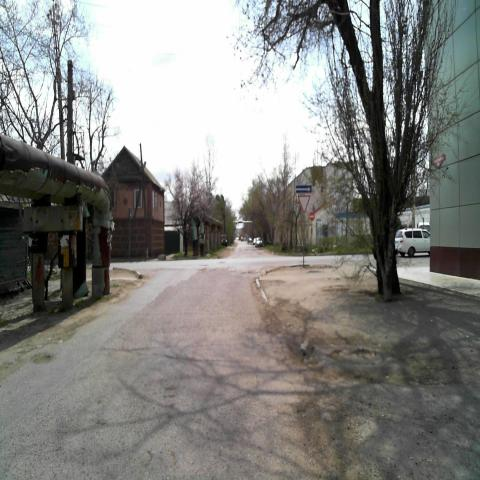2_4: (298, 195, 310, 212)
3_1: (309, 211, 315, 221)
5_7_1: (296, 185, 312, 193)
